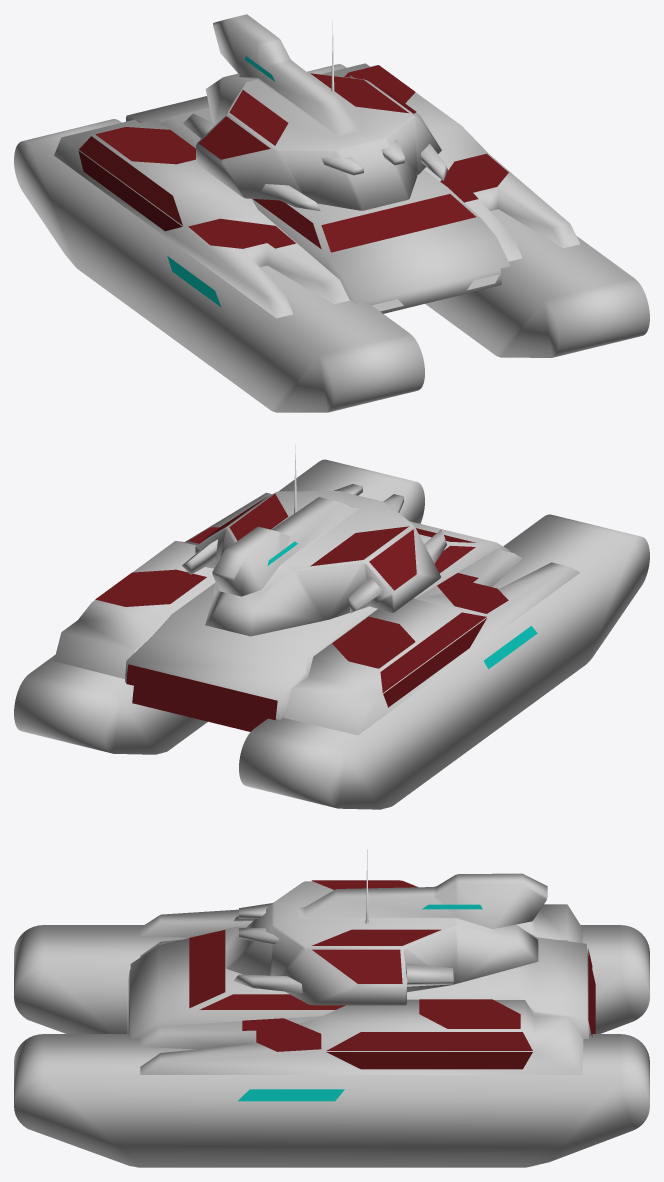
File: Lancer.fbx
The picture shows the model from 3 angles, top to bottom: view 1: azimuth 30°, elevation 25°; view 2: azimuth 150°, elevation 25°; view 3: azimuth 270°, elevation 25°; orthographic projection.
Visible parts, largest first — view 1: track_LP, tower_sm_LP, mudflap_sm_LP, color_side_case.001, case_sm_LP, color_side_tower.001, parts_tower_sm_LP, lights_case; view 2: track_LP, mudflap_sm_LP, tower_sm_LP, color_side_case.001, case_sm_LP, color_side_tower.001, parts_tower_sm_LP, lights_case; view 3: track_LP, tower_sm_LP, mudflap_sm_LP, color_side_case.001, case_sm_LP, color_side_tower.001, parts_tower_sm_LP, lights_case.
Part boxes in pixels (left/top/right/bottom): track_LP: left=14, top=64, right=649, bottom=412; tower_sm_LP: left=196, top=14, right=441, bottom=210; mudflap_sm_LP: left=54, top=63, right=579, bottom=318; color_side_case.001: left=78, top=65, right=508, bottom=252; case_sm_LP: left=126, top=96, right=510, bottom=313; color_side_tower.001: left=198, top=73, right=416, bottom=159; parts_tower_sm_LP: left=183, top=75, right=447, bottom=211; lights_case: left=167, top=256, right=499, bottom=311; track_LP: left=14, top=459, right=649, bottom=809; mudflap_sm_LP: left=54, top=492, right=580, bottom=735; tower_sm_LP: left=195, top=491, right=440, bottom=636; color_side_case.001: left=95, top=527, right=508, bottom=731; case_sm_LP: left=125, top=521, right=510, bottom=719; color_side_tower.001: left=200, top=494, right=416, bottom=590; parts_tower_sm_LP: left=182, top=484, right=446, bottom=613; lights_case: left=484, top=626, right=537, bottom=669; track_LP: left=14, top=925, right=649, bottom=1167; tower_sm_LP: left=225, top=873, right=547, bottom=1005; mudflap_sm_LP: left=140, top=904, right=583, bottom=1074; color_side_case.001: left=189, top=930, right=595, bottom=1069; case_sm_LP: left=127, top=926, right=591, bottom=1038; color_side_tower.001: left=311, top=880, right=441, bottom=983; parts_tower_sm_LP: left=233, top=903, right=453, bottom=993; lights_case: left=238, top=1089, right=344, bottom=1101.
Bounding box in the file's own units: 388 × 681 × 309.
